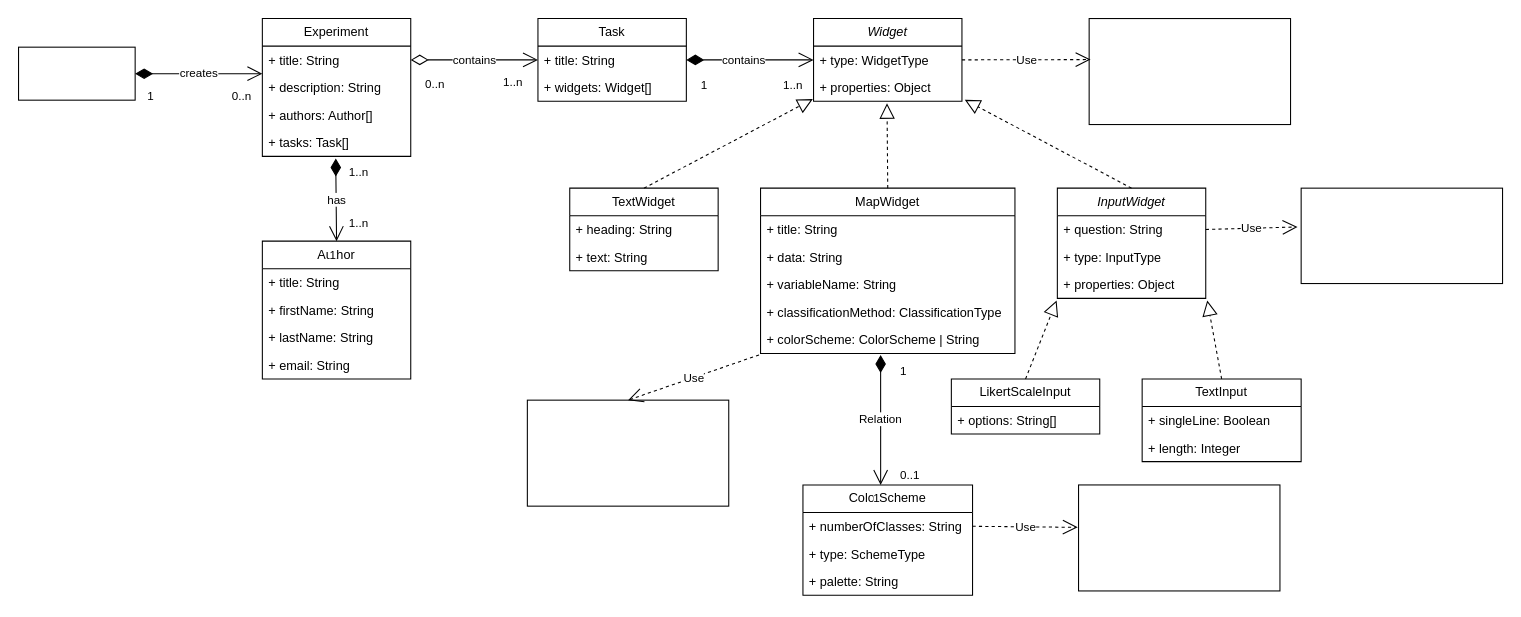
The diagram is 1521 pixels wide and 617 high, and some of its shapes have lost their labels. Here are the shapes that lost their labels. From the top down, the centre of each, then its label:
At point (76, 73): "Toolkit".
At point (1189, 71): "<<Enumeration>> WidgetType text map input".
At point (1401, 235): "<<Enumeration>> InputType text likert".
At point (627, 452): "<<Enumeration>> ClassificationType equal interval quantiles jenks".
At point (1178, 537): "<<Enumeration>> SchemeType sequential diverging qualitative".
